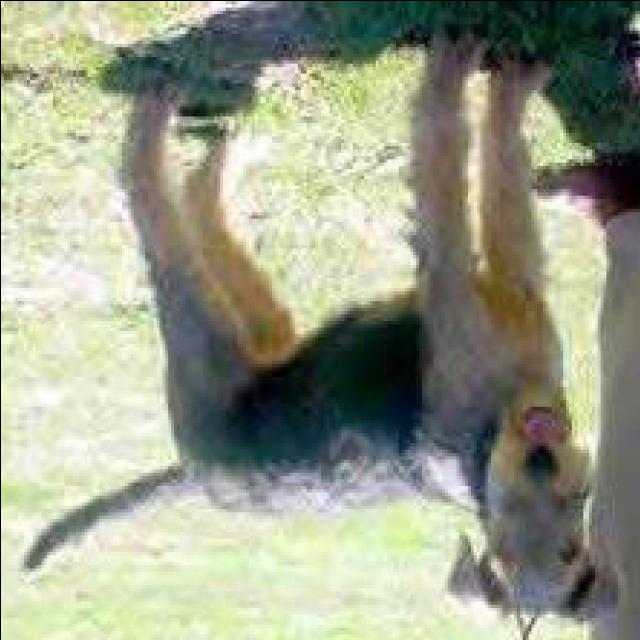airedale: (18, 19, 632, 634)
